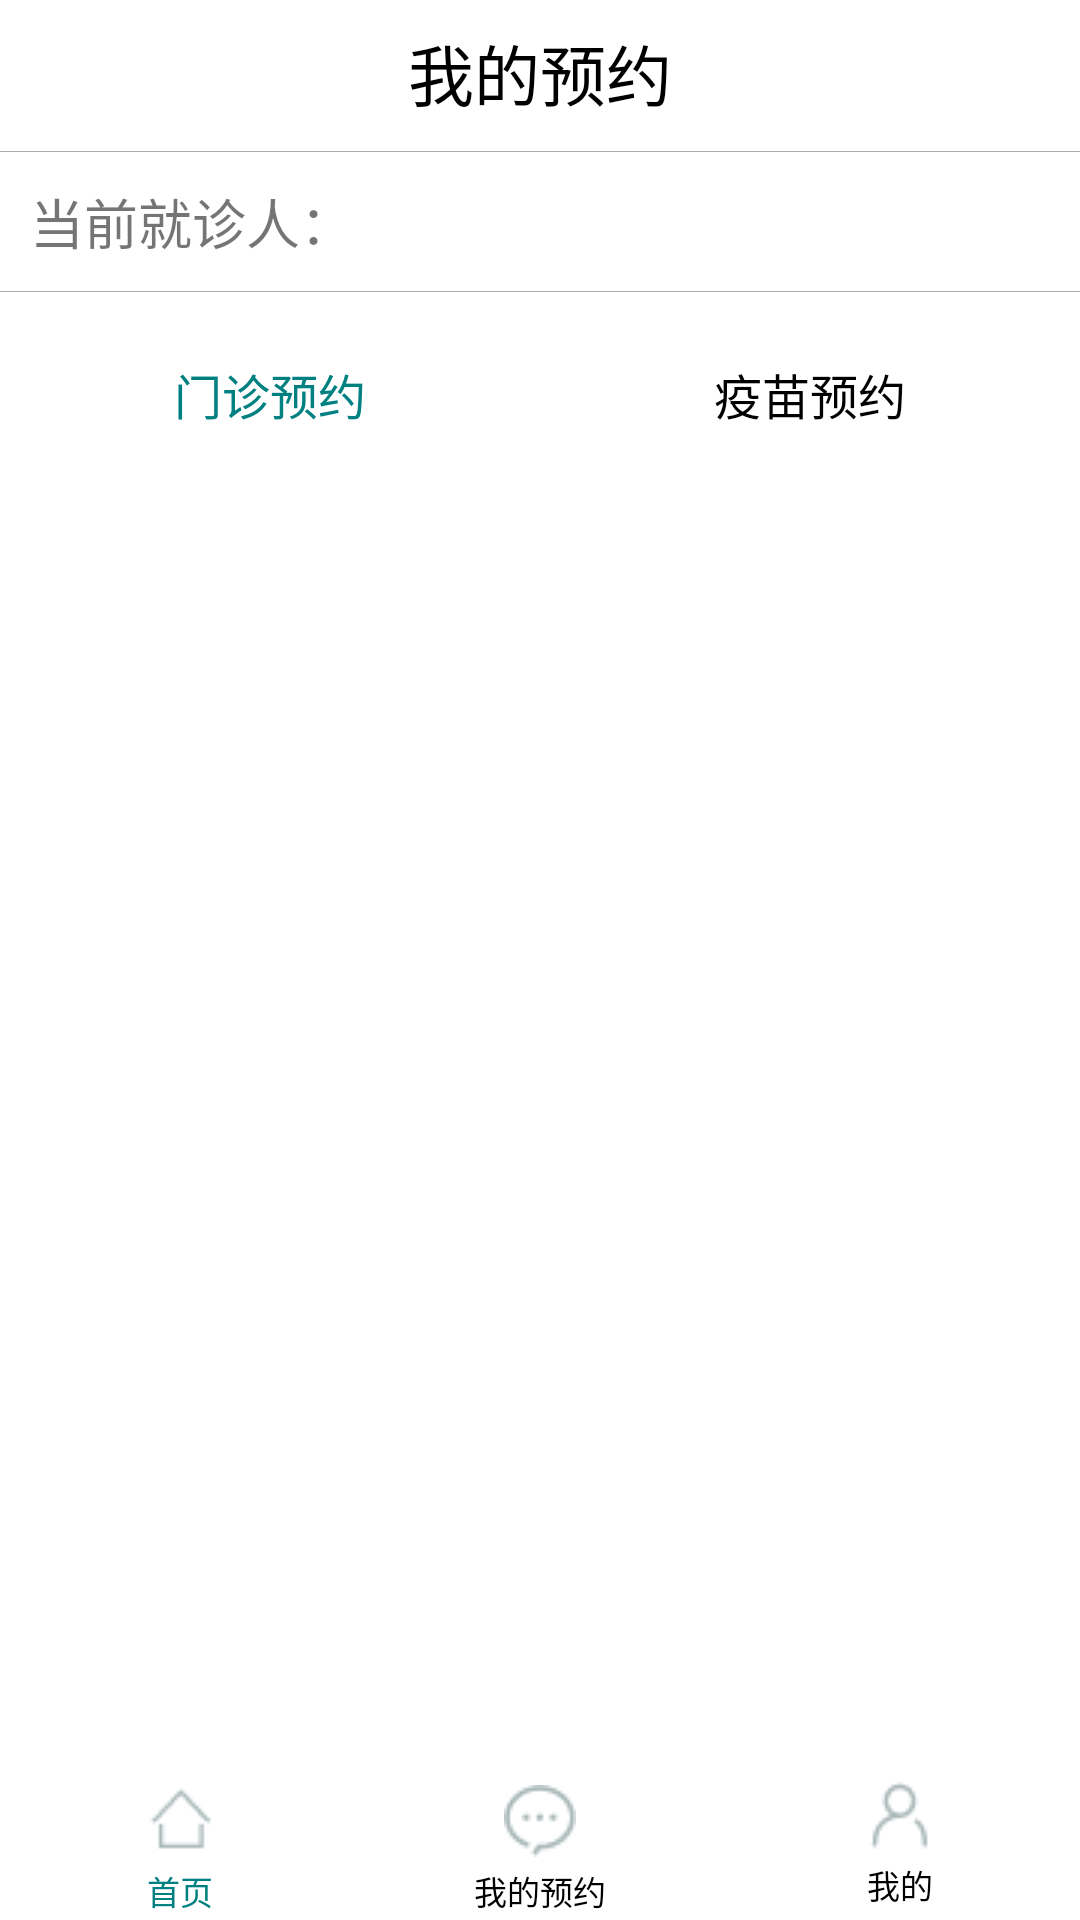

Screen size 1080 × 1920. Icon name, then its center in pixels as (x,y):
message: (540,1821)
